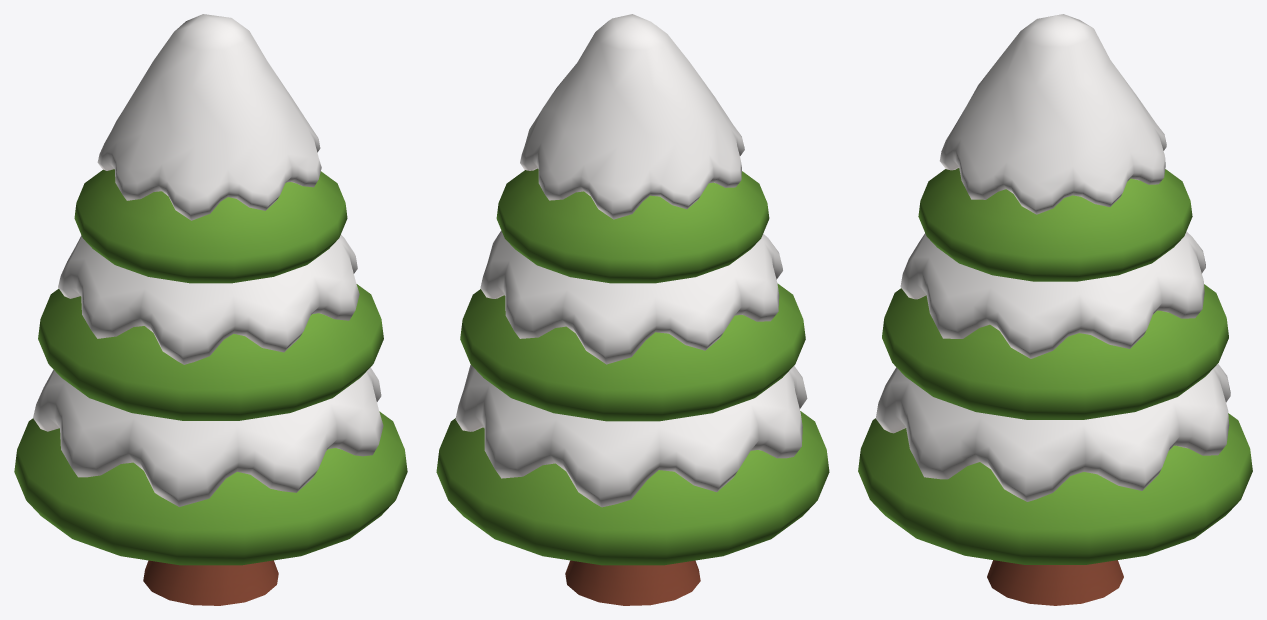
Rendered from Christmass_tree_outdoor_001.fbx.
3 views of the same model, side by side, from view 1: azimuth 30°, elevation 25°; view 2: azimuth 150°, elevation 25°; view 3: azimuth 270°, elevation 25° (orthographic).
Visible parts, largest first — view 1: Christmass_tree_outdoor_001; view 2: Christmass_tree_outdoor_001; view 3: Christmass_tree_outdoor_001.
Boxes of the visible parts, box(x1,y1,x2,y2) form: Christmass_tree_outdoor_001: box(14, 14, 407, 605); Christmass_tree_outdoor_001: box(436, 14, 829, 605); Christmass_tree_outdoor_001: box(858, 14, 1252, 605).
Size of the model in its own units: 258 by 262 by 411.
